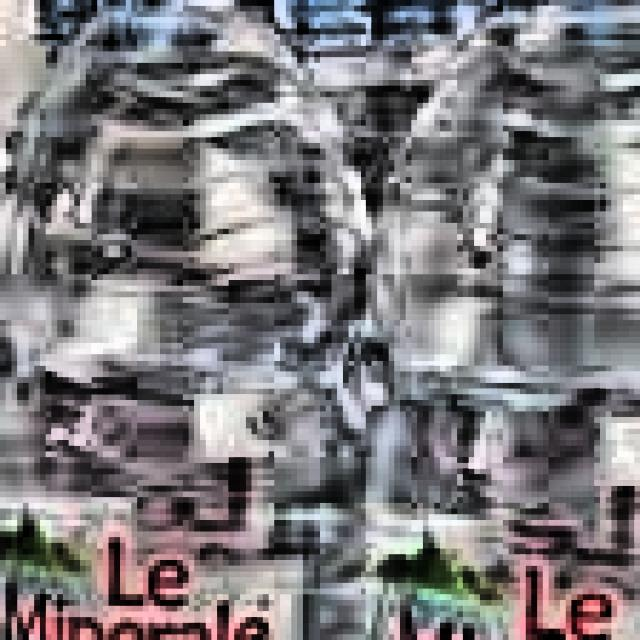plastic: (63, 0, 371, 640), (417, 0, 640, 640)
